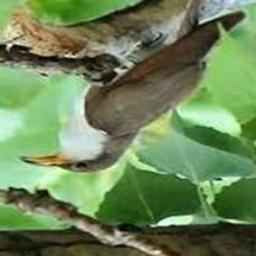Cuckoo: (18, 0, 245, 173)
